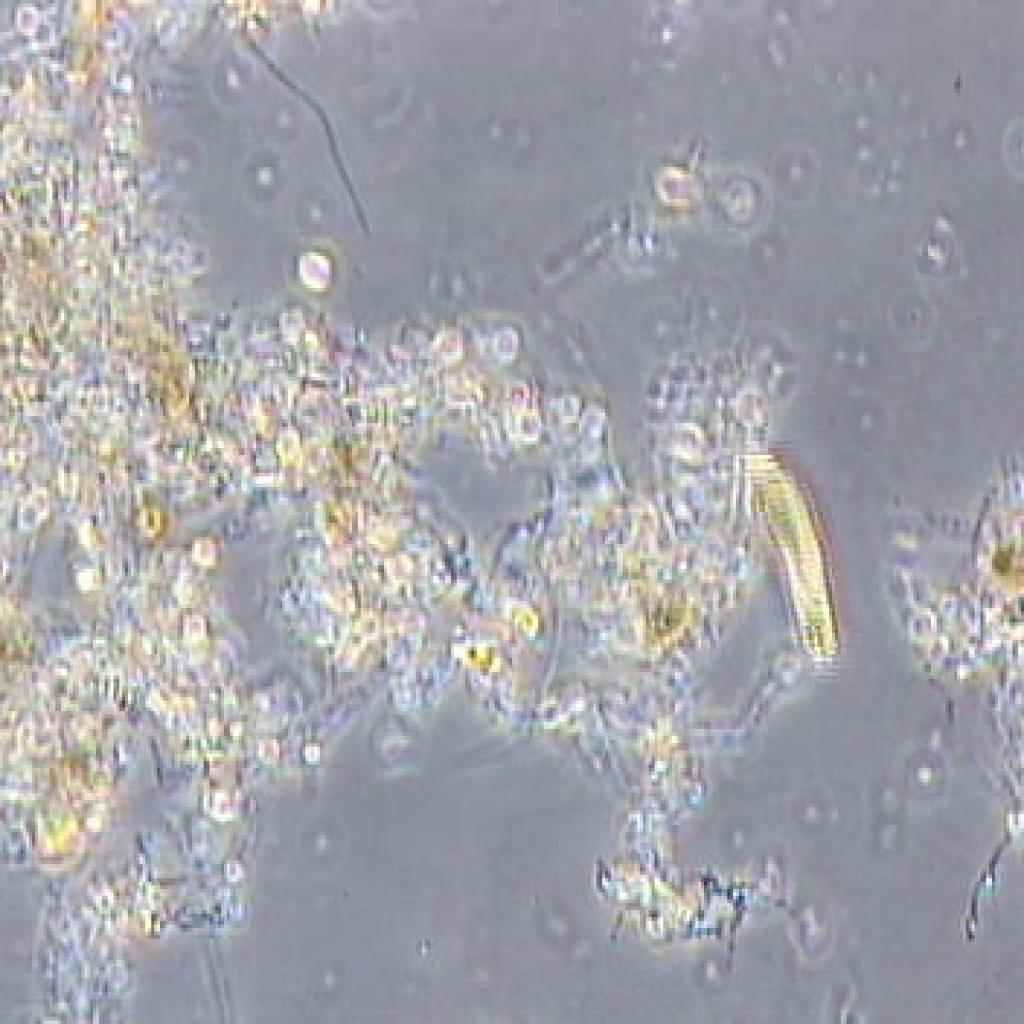Chaetonotus: (732, 450, 868, 677)
